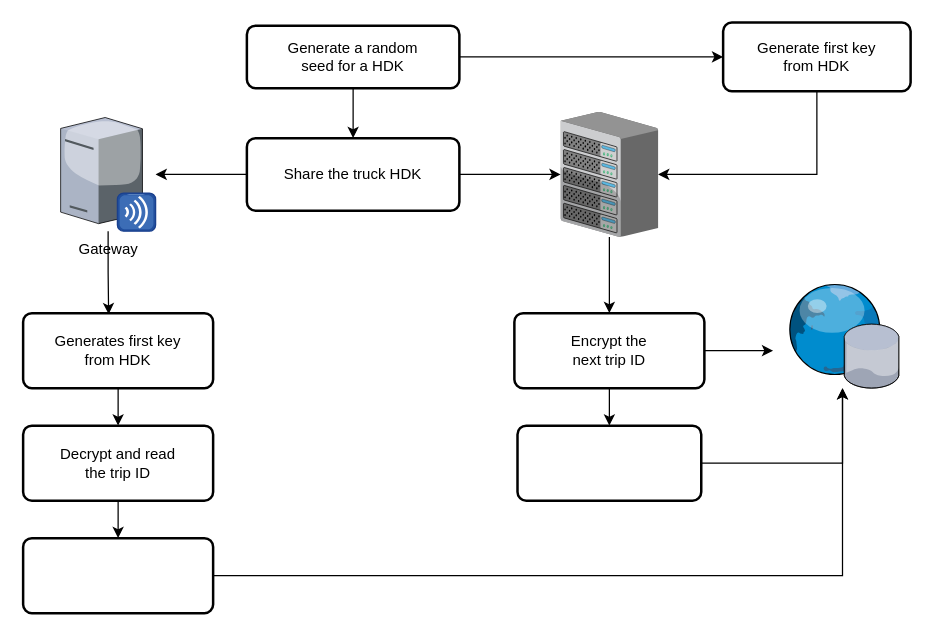
The diagram is 933 pixels wide and 636 high, and some of its shapes have lost their labels. The centre of each missing label's shape, as x and y in pixels:
"Build first trip public address" belongs at point (117, 575).
"Creates the specific public address" belongs at point (609, 462).
"ERP system" belongs at point (609, 173).
"Radix ledger" belongs at point (842, 335).
